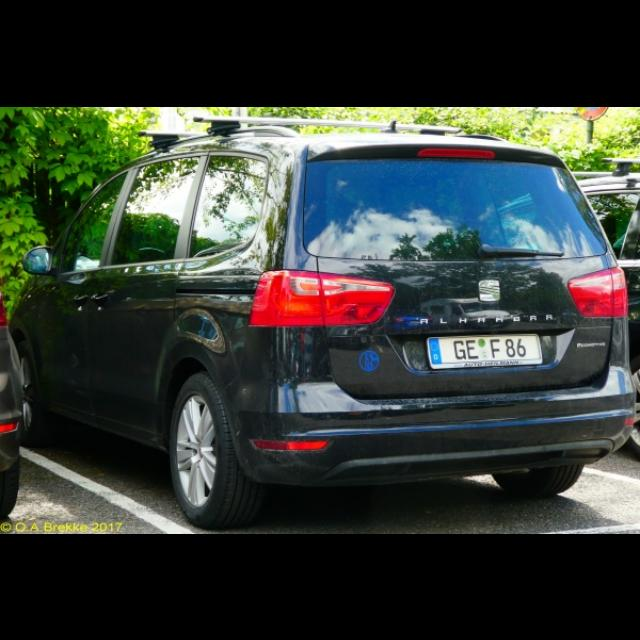d_license_plate: (426, 333, 540, 362)
